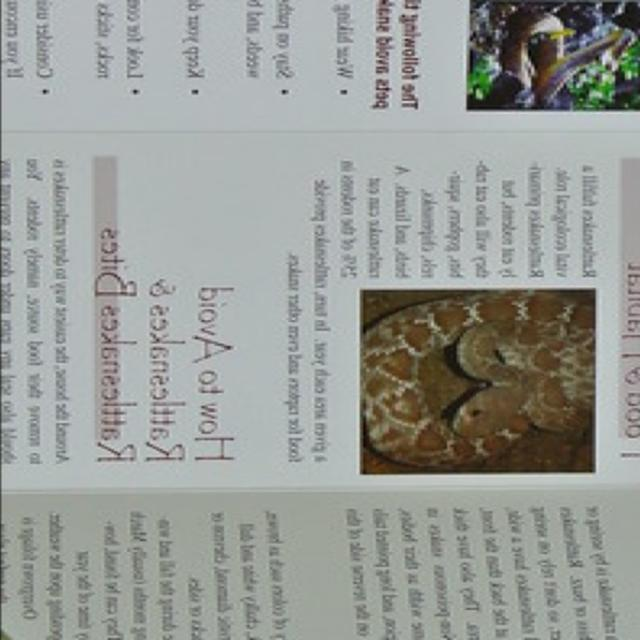Snake: (362, 292, 601, 470)
